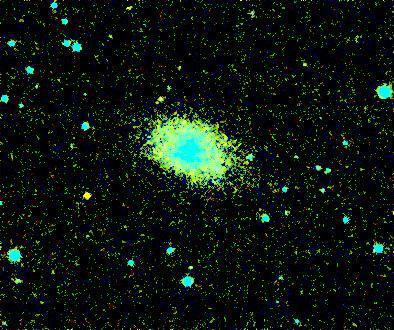star: (70, 181, 100, 211)
